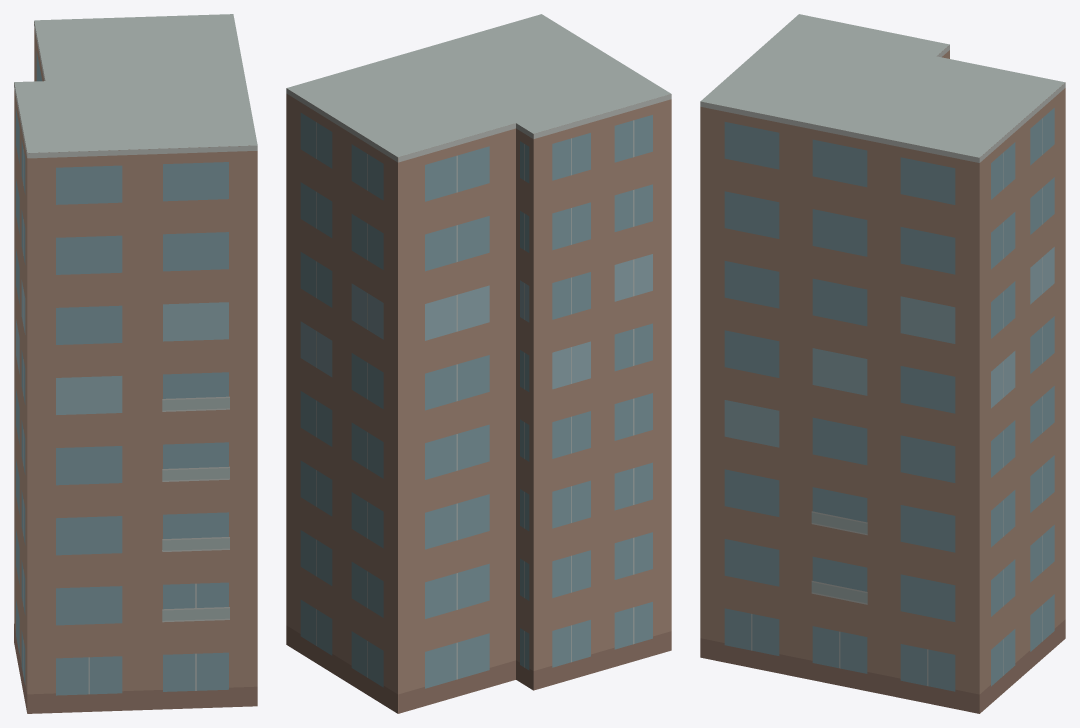
File: survey-upis-32633403.glb
3 views of the same model, side by side, from view 1: azimuth 30°, elevation 25°; view 2: azimuth 150°, elevation 25°; view 3: azimuth 270°, elevation 25° (orthographic).
Parts seen in each view (by area): view 1: survey-upis-32633403.tmp; view 2: survey-upis-32633403.tmp; view 3: survey-upis-32633403.tmp.
Part boxes in pixels (left/top/right/bottom): survey-upis-32633403.tmp: left=14, top=14, right=257, bottom=713; survey-upis-32633403.tmp: left=286, top=14, right=671, bottom=713; survey-upis-32633403.tmp: left=700, top=14, right=1065, bottom=713.
Size of the model in its own units: 14.26 by 25.7 by 15.31.
